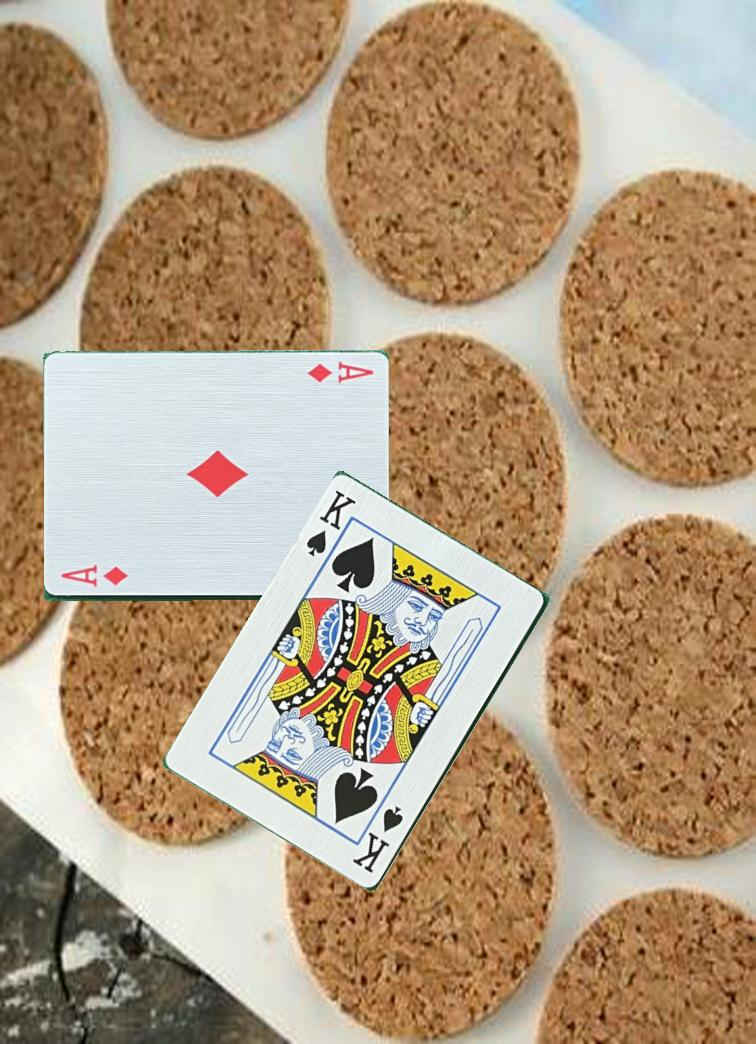ad: (50, 562, 137, 593), (304, 357, 377, 386)
ks: (302, 487, 364, 560), (349, 802, 407, 877)
